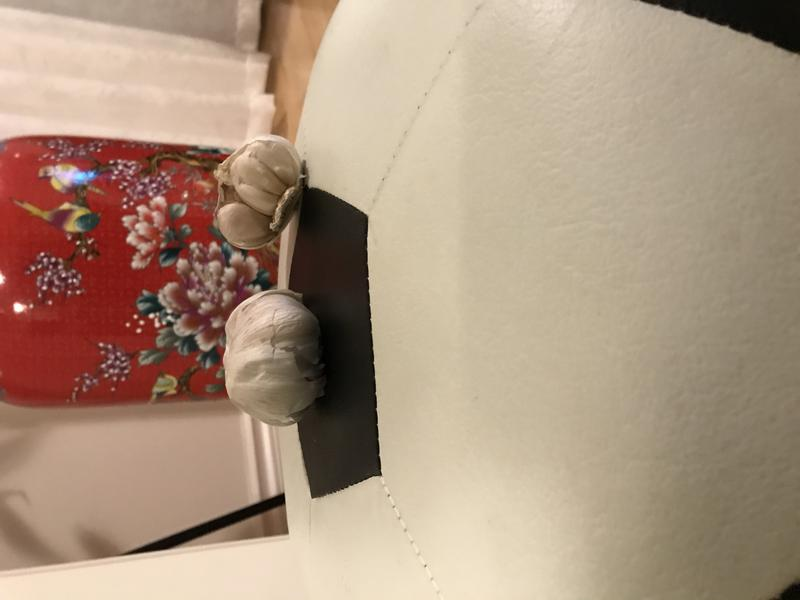garlic: (211, 286, 338, 430), (205, 124, 312, 257)
